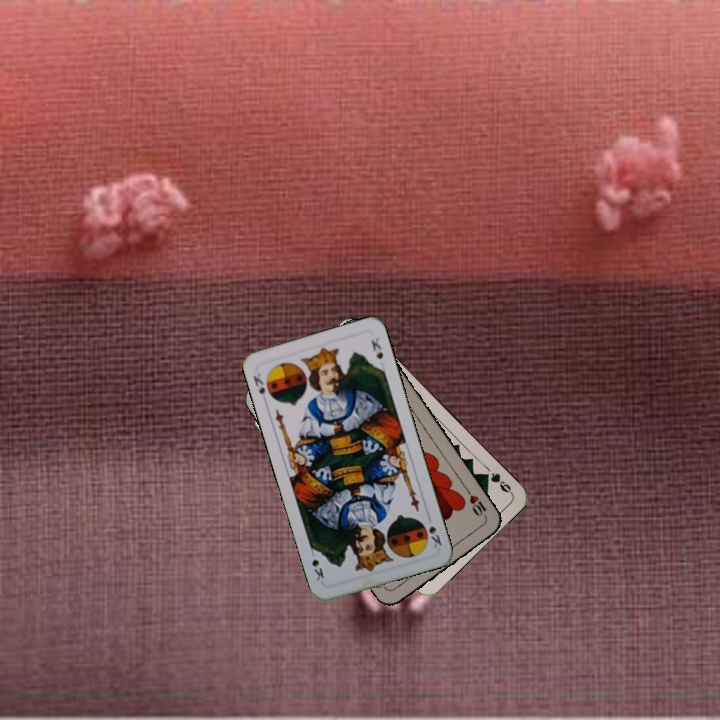G9: (478, 469, 515, 496)
H10: (463, 486, 490, 522)
SK: (249, 369, 268, 398), (425, 522, 444, 550)
